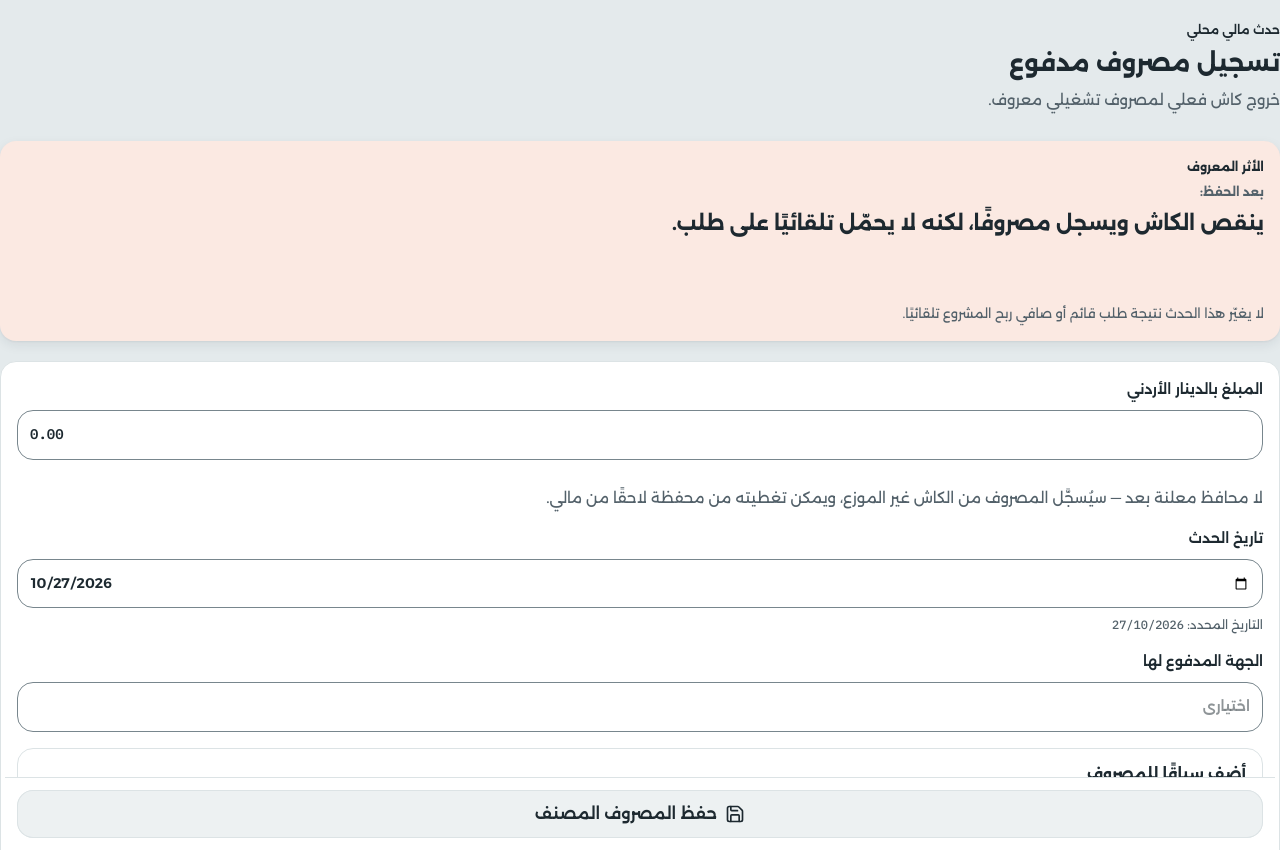
Test case: FinancialEventEditor guided journey (المجموعة ١) › renders the shared allocation review card with reconciled rows before save
Click the text "أضف سياقًا للمصروف".
click(1166, 774)  # box [1087, 764, 1246, 783]
(page scrolled)
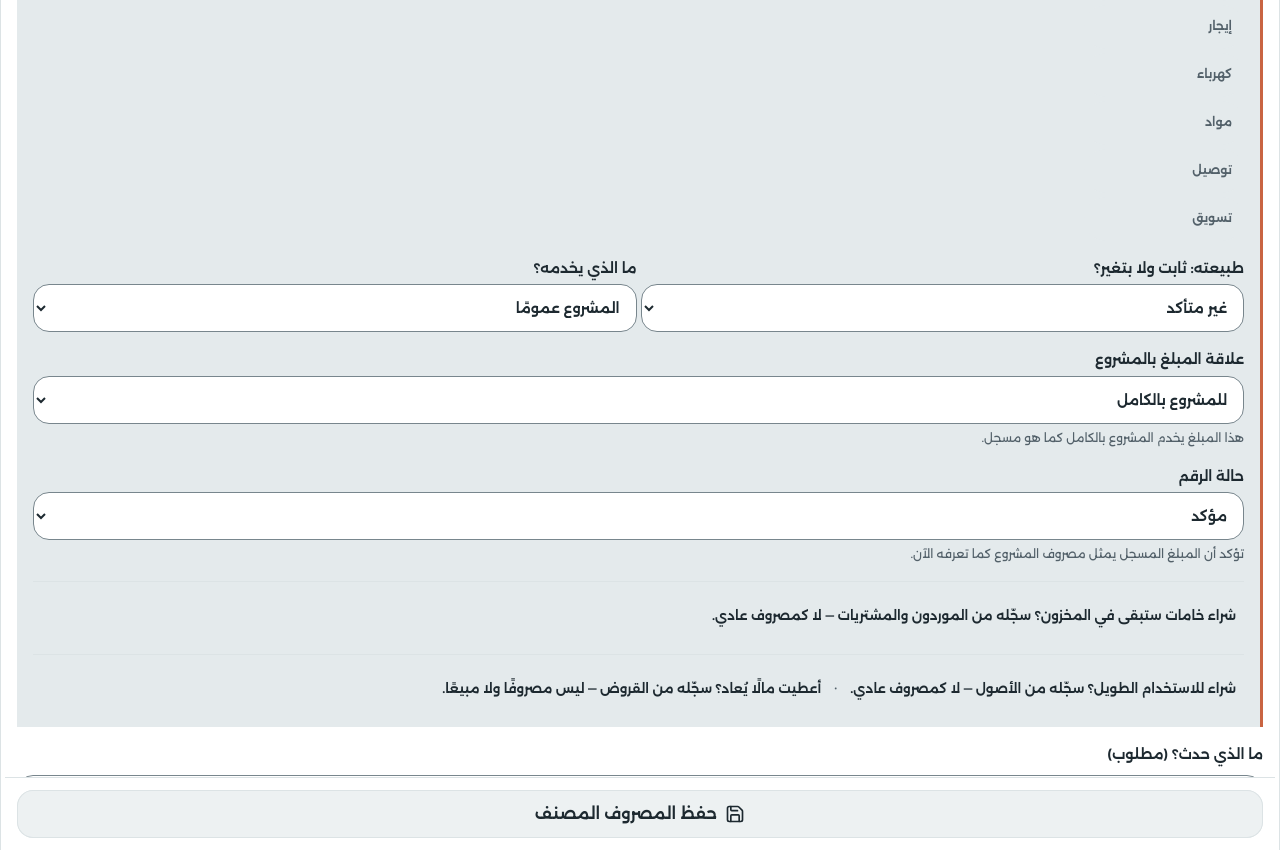
Select "مصروف مشترك مع البيت أو نشاط آخر" in the dropdown showing "للمشروع بالكامل" at [638, 400], box [33, 376, 1244, 424]
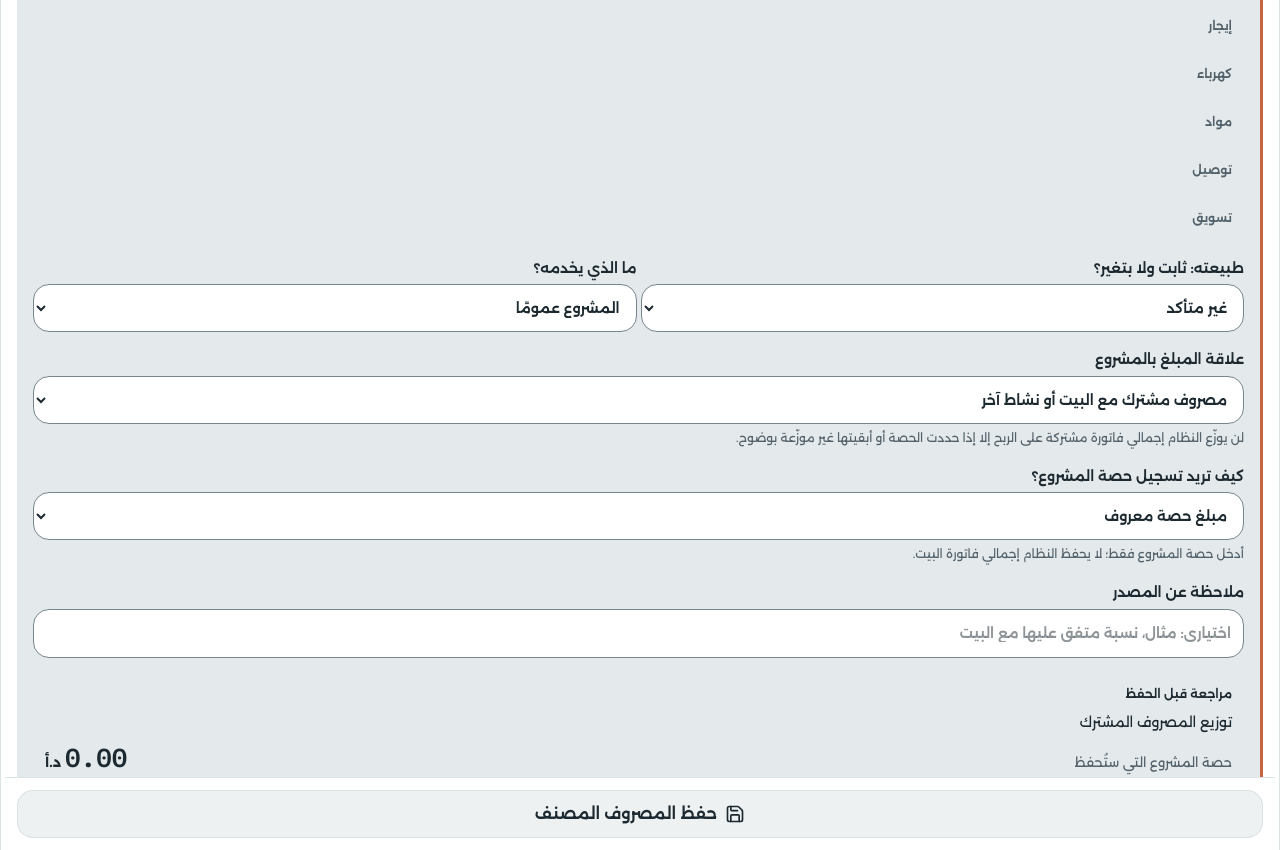
Select "نسبة من إجمالي معلوم" in the dropdown showing "مبلغ حصة معروف" at [638, 516], box [33, 492, 1244, 540]
(page scrolled)
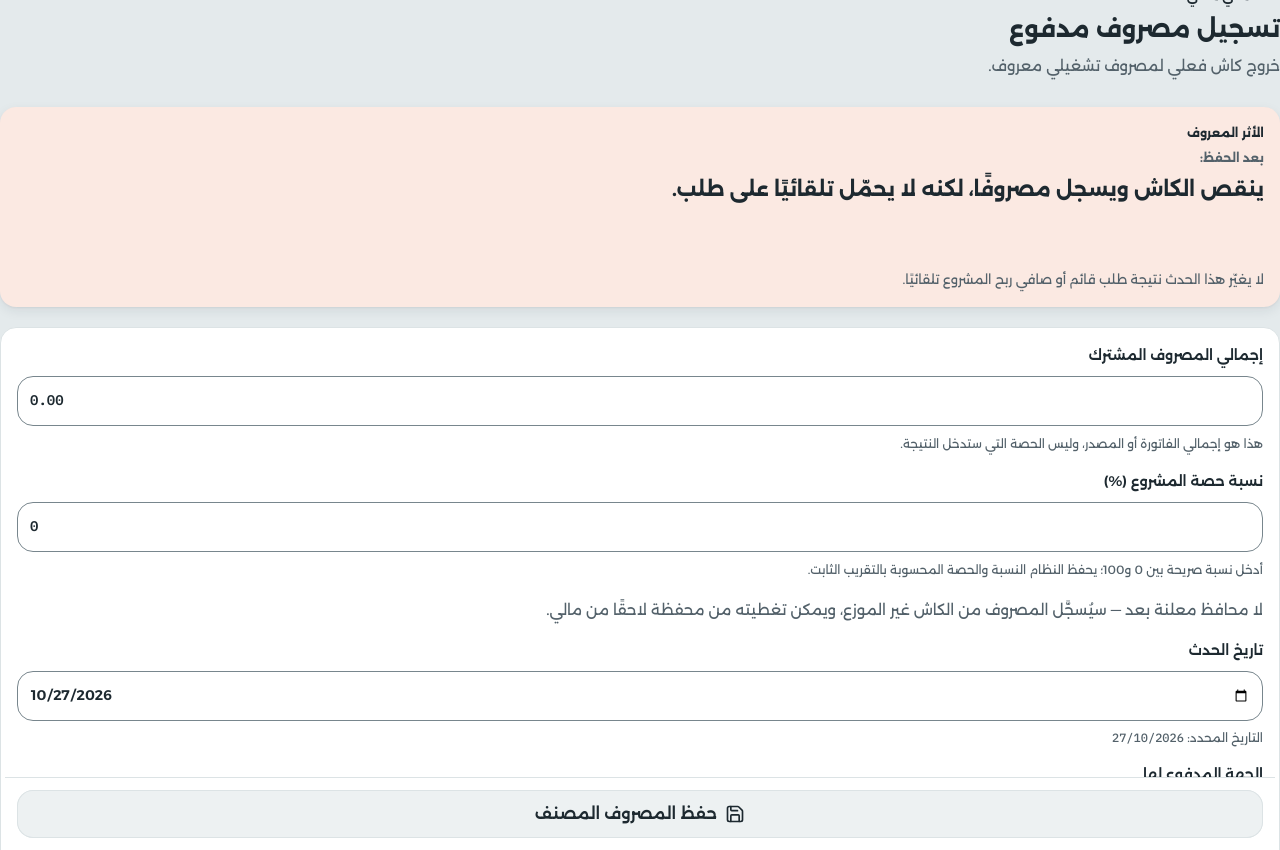
Type "100" into the field labelled "إجمالي المصروف المشترك".
click(640, 401); type("100")  # box [17, 376, 1263, 426]
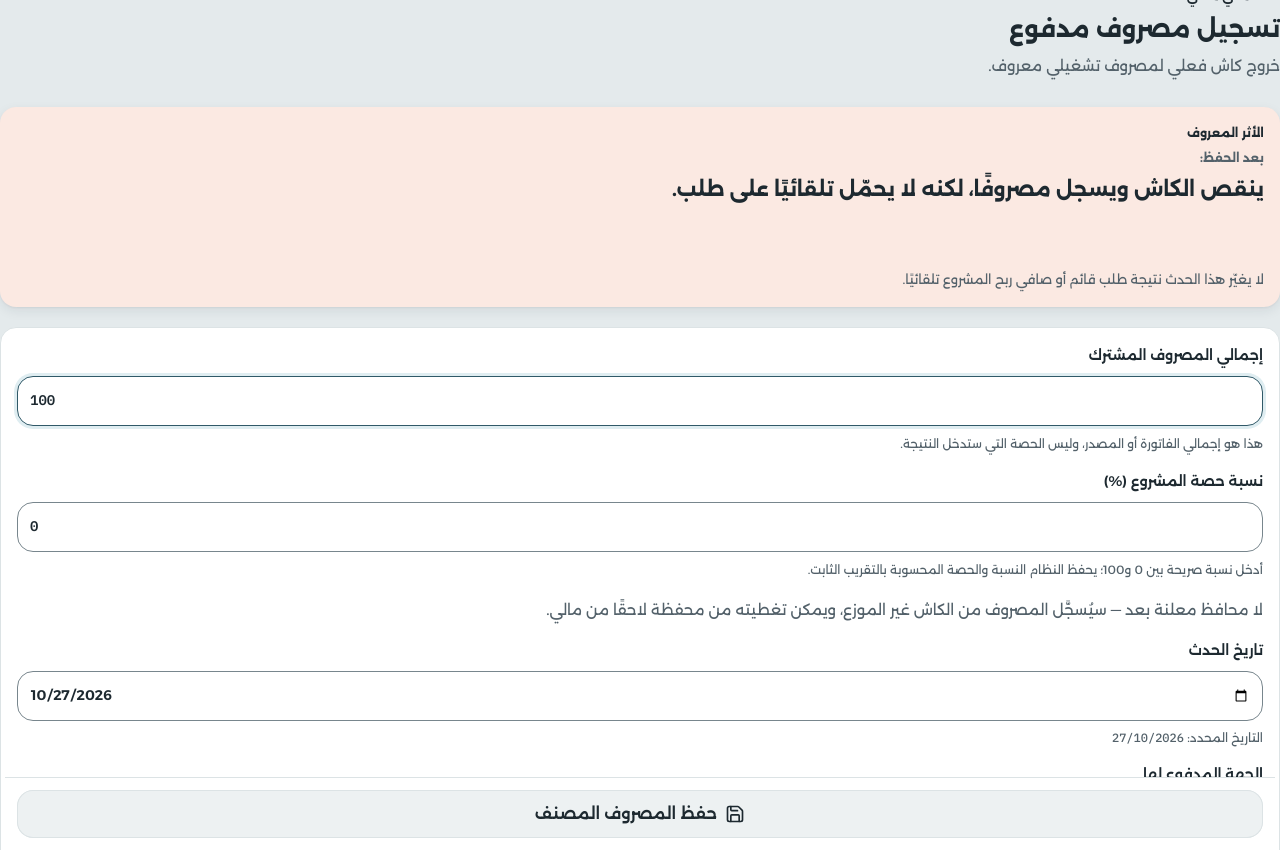
Type "60" into the field labelled "نسبة حصة المشروع".
click(640, 527); type("60")  # box [17, 502, 1263, 552]
(page scrolled)
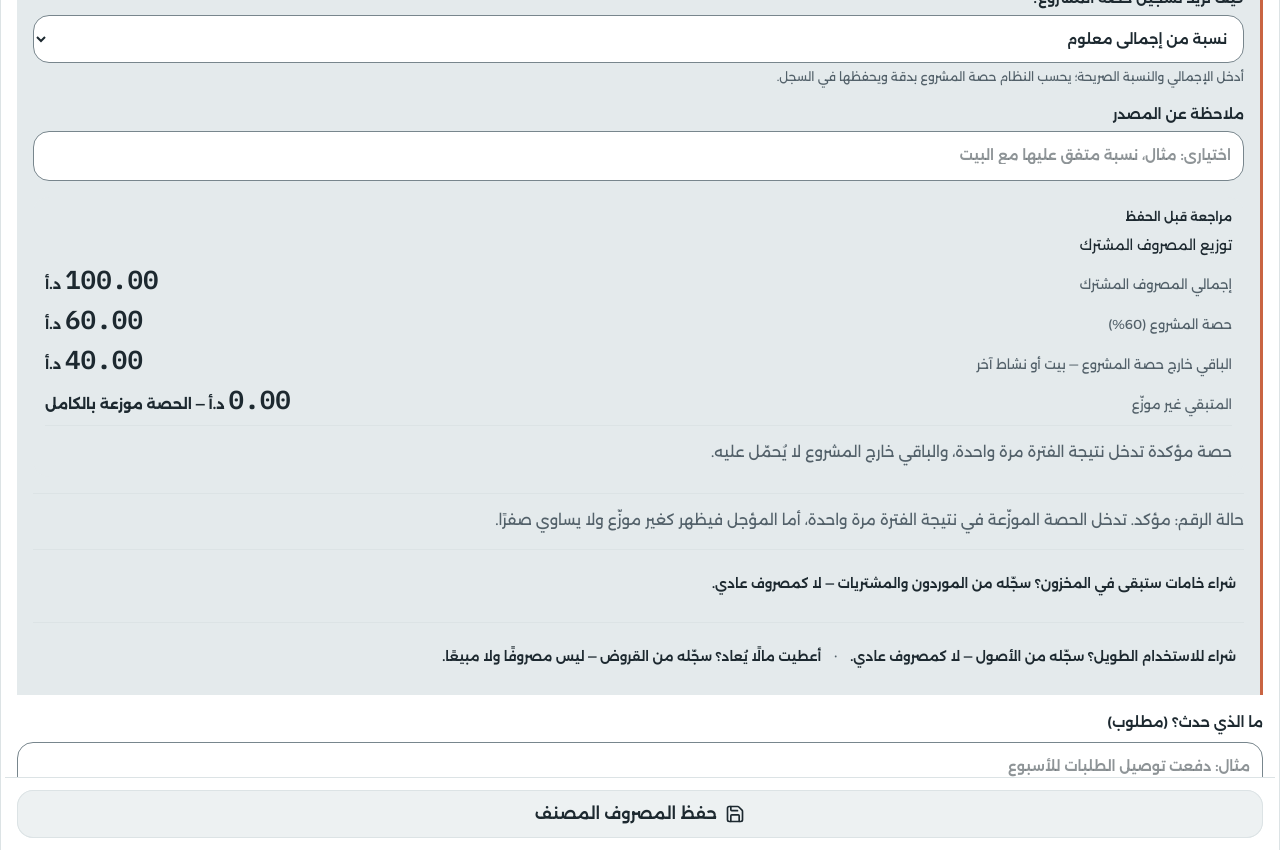
Result: the heading "توزيع المصروف المشترك" is shown at [1080, 236, 1232, 254]
Result: the text "حصة المشروع (60%)" is shown at [1108, 313, 1232, 335]
Result: the text "الباقي خارج حصة المشروع — بيت أو نشاط آخر" is shown at [976, 353, 1232, 375]
